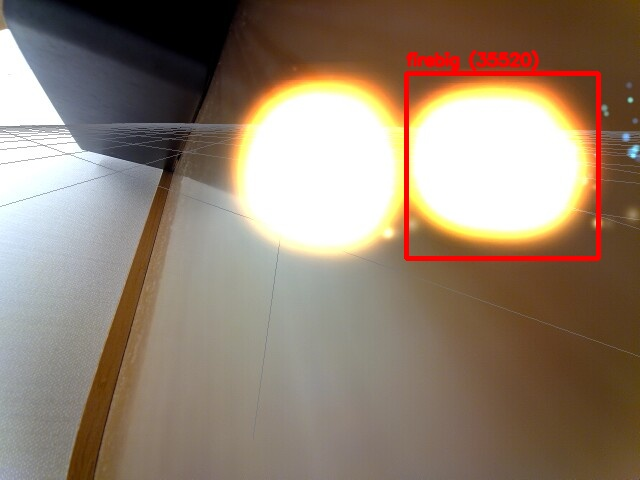firebig: (406, 73, 598, 258)
